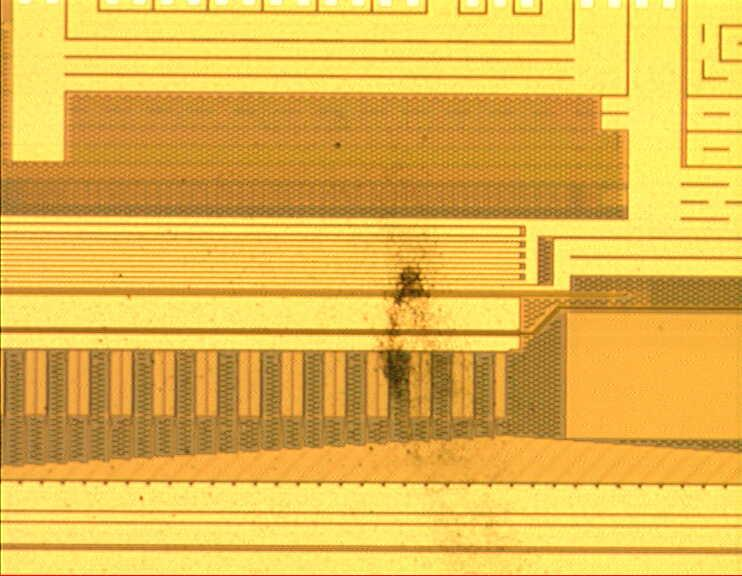PO CONTAMINATION: (371, 232, 525, 570)
